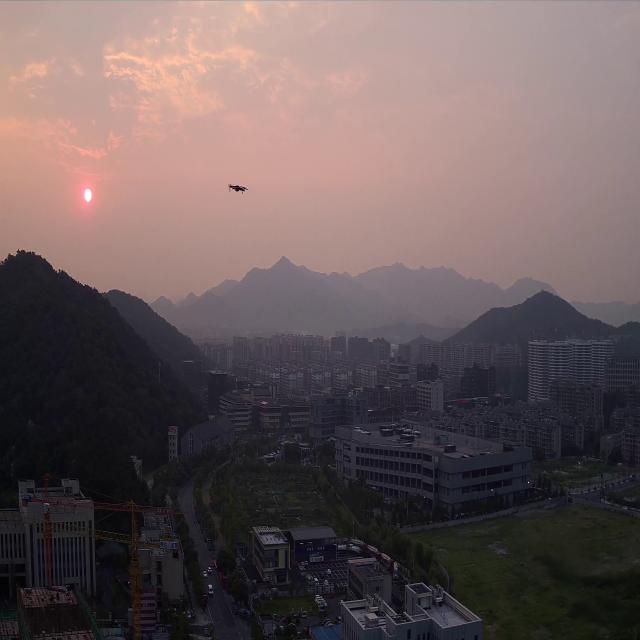drone: (226, 184, 248, 194)
